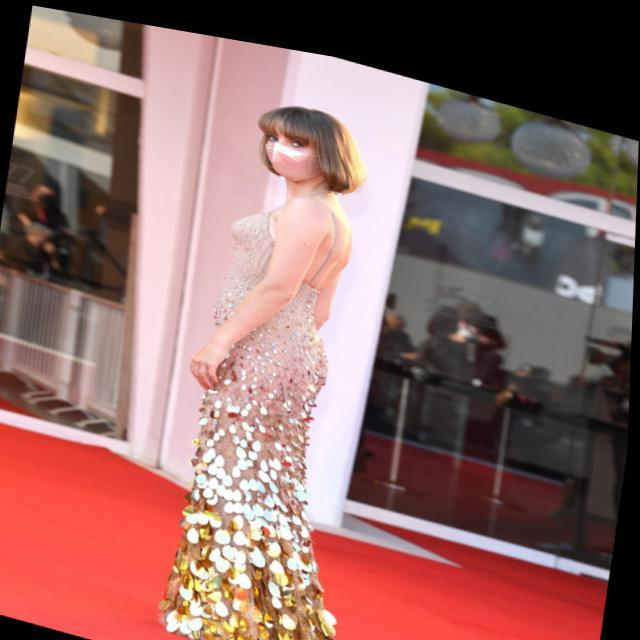Nonhelmet: (258, 90, 358, 196)
